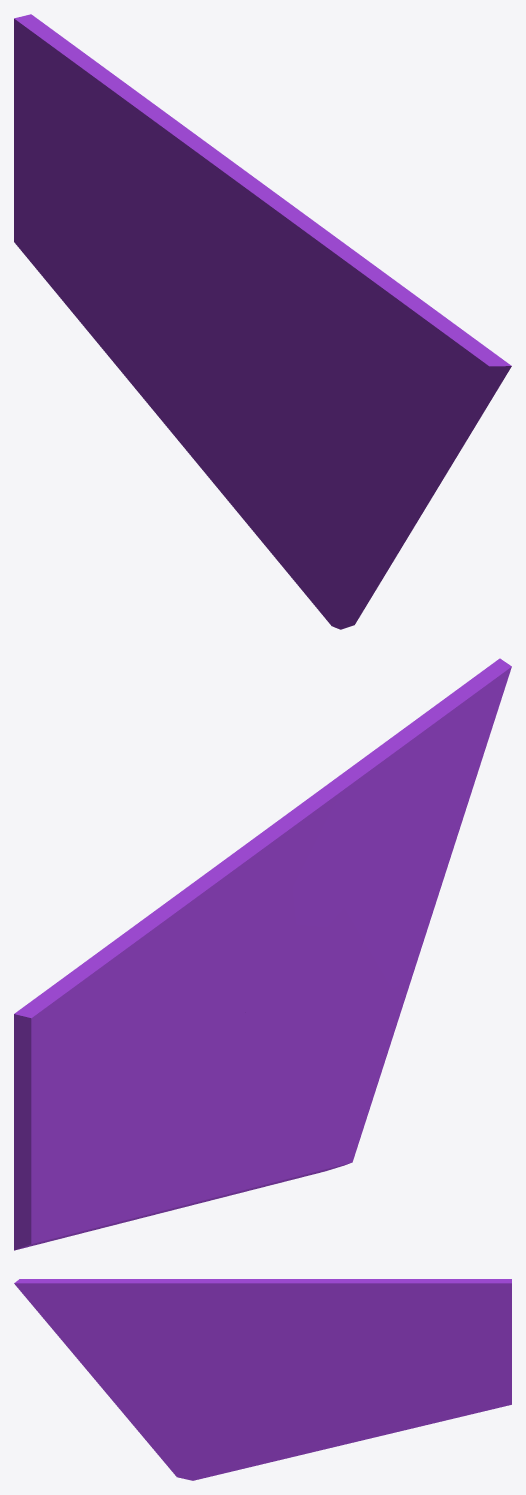
The model's file is Glass_65_2_chunks.fbx.
The picture shows the model from 3 angles, top to bottom: view 1: azimuth 30°, elevation 25°; view 2: azimuth 150°, elevation 25°; view 3: azimuth 270°, elevation 25°; orthographic projection. The views are drawn at different scales.
Visible parts, largest first — view 1: Glass_65_2_10, Glass_65_2_1, Glass_65_2_4, Glass_65_2_2, Glass_65_2_3, Glass_65_2_11, Glass_65_2_13, Glass_65_2_5, Glass_65_2_8, Glass_65_2_7, Glass_65_2_9, Glass_65_2_15 (+2 smaller); view 2: Glass_65_2_1, Glass_65_2_10, Glass_65_2_4, Glass_65_2_2, Glass_65_2_3, Glass_65_2_11, Glass_65_2_13, Glass_65_2_5, Glass_65_2_8, Glass_65_2_7, Glass_65_2_9, Glass_65_2_15 (+2 smaller); view 3: Glass_65_2_10, Glass_65_2_1, Glass_65_2_4, Glass_65_2_2, Glass_65_2_11, Glass_65_2_5, Glass_65_2_13, Glass_65_2_3, Glass_65_2_8, Glass_65_2_7, Glass_65_2_15, Glass_65_2_6 (+3 smaller).
Part boxes in pixels (box(x1,y1,x2,y2)): Glass_65_2_10: box(323, 283, 511, 529); Glass_65_2_1: box(14, 15, 143, 365); Glass_65_2_4: box(26, 14, 200, 239); Glass_65_2_2: box(117, 272, 236, 456); Glass_65_2_3: box(138, 135, 237, 382); Glass_65_2_11: box(195, 183, 306, 440); Glass_65_2_13: box(272, 223, 397, 360); Glass_65_2_5: box(192, 381, 291, 537); Glass_65_2_8: box(276, 419, 412, 578); Glass_65_2_7: box(259, 502, 372, 629); Glass_65_2_9: box(299, 356, 370, 510); Glass_65_2_15: box(186, 138, 314, 239); Glass_65_2_1: box(14, 1009, 162, 1250); Glass_65_2_10: box(344, 658, 511, 988); Glass_65_2_4: box(14, 888, 192, 1059); Glass_65_2_2: box(111, 1057, 256, 1225); Glass_65_2_3: box(156, 889, 257, 1082); Glass_65_2_11: box(214, 916, 326, 1052); Glass_65_2_13: box(293, 740, 410, 926); Glass_65_2_5: box(188, 1034, 311, 1206); Glass_65_2_8: box(297, 979, 411, 1096); Glass_65_2_7: box(262, 1072, 381, 1187); Glass_65_2_9: box(320, 907, 391, 1022); Glass_65_2_15: box(186, 804, 300, 894); Glass_65_2_10: box(14, 1279, 202, 1405); Glass_65_2_1: box(384, 1279, 511, 1427); Glass_65_2_4: box(333, 1279, 511, 1361); Glass_65_2_2: box(294, 1357, 414, 1446); Glass_65_2_11: box(198, 1292, 331, 1394); Glass_65_2_5: box(223, 1385, 335, 1464); Glass_65_2_13: box(123, 1279, 247, 1345); Glass_65_2_3: box(301, 1279, 370, 1372); Glass_65_2_8: box(117, 1390, 235, 1429); Glass_65_2_7: box(158, 1435, 258, 1480); Glass_65_2_15: box(218, 1279, 335, 1312); Glass_65_2_6: box(137, 1422, 225, 1454).
Size of the model in its own units: 27.2 by 573 by 1310.
